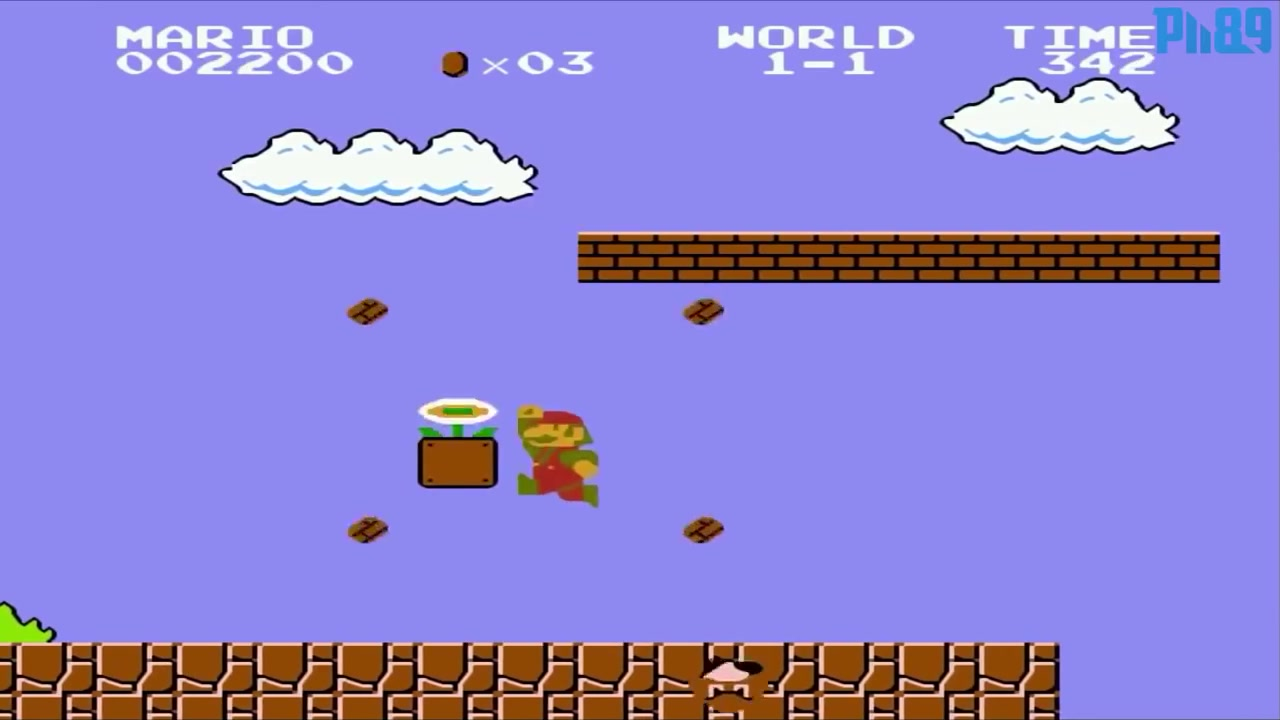mario: (505, 397, 609, 524)
